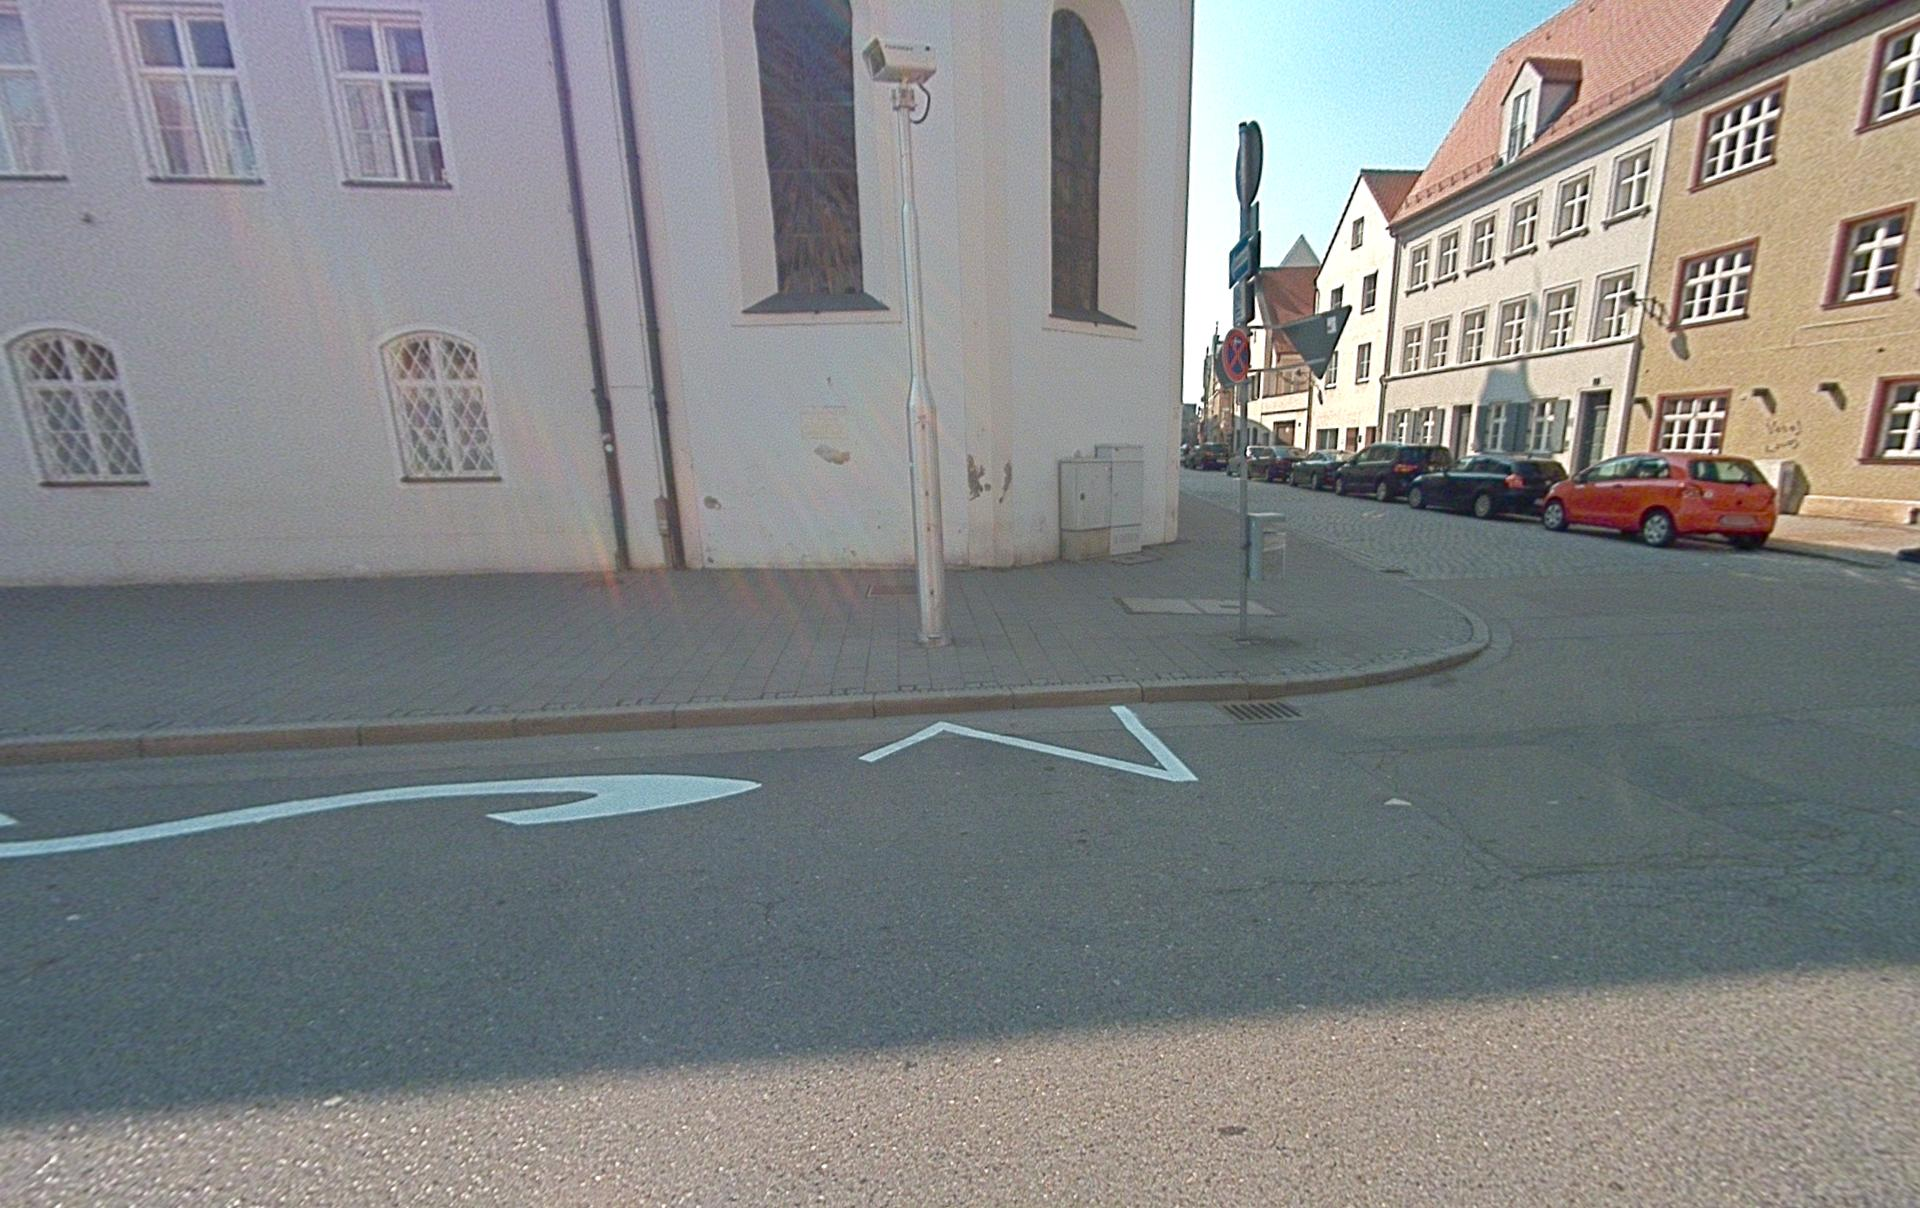car: (1539, 451, 1778, 550), (1407, 452, 1568, 519), (1333, 443, 1454, 502), (1287, 448, 1354, 491), (1226, 445, 1280, 480), (1190, 443, 1230, 472)
traffic sign: (1217, 328, 1252, 386), (1229, 230, 1262, 287)
